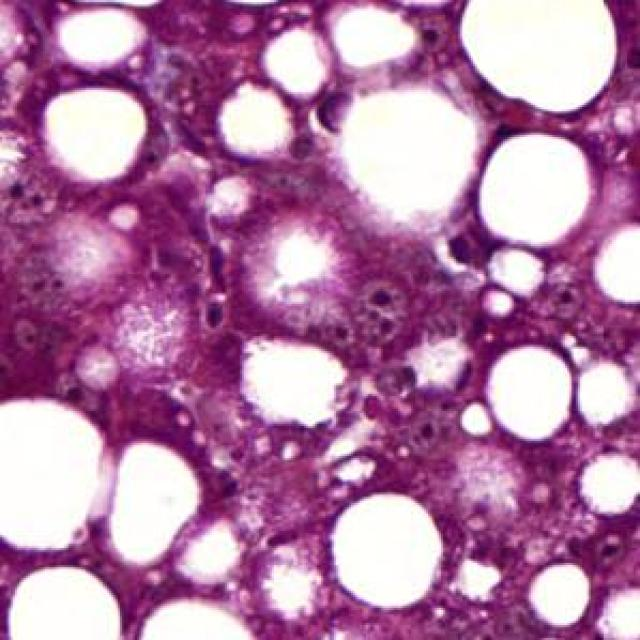steatosis: (477, 133, 595, 248), (229, 340, 360, 428), (39, 86, 154, 184), (105, 445, 205, 557), (330, 499, 443, 597), (214, 79, 302, 163)
